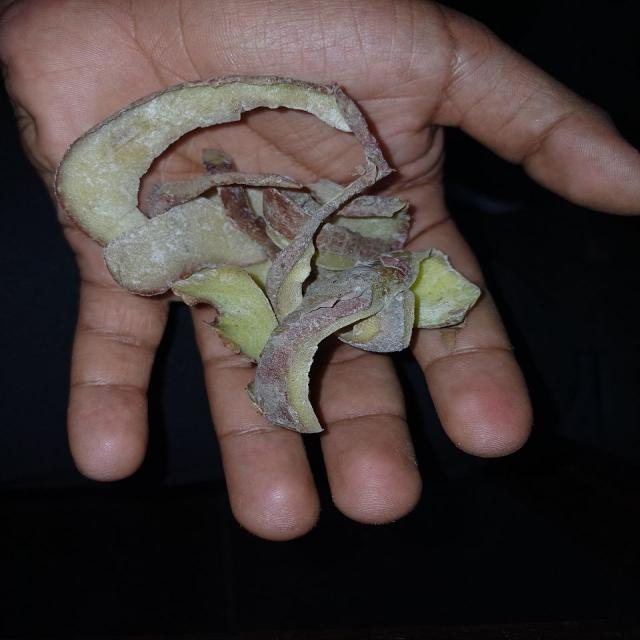organic: (61, 75, 480, 432)
